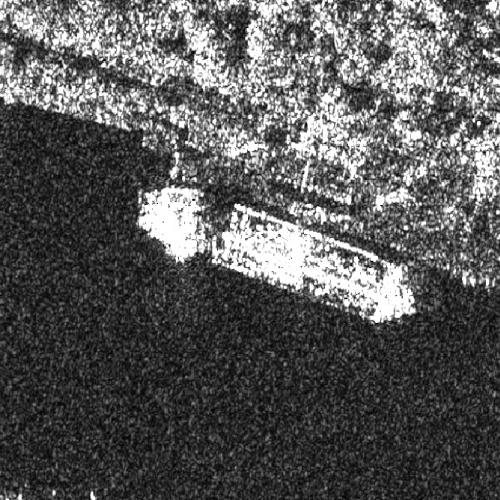ship: (133, 183, 420, 329)
